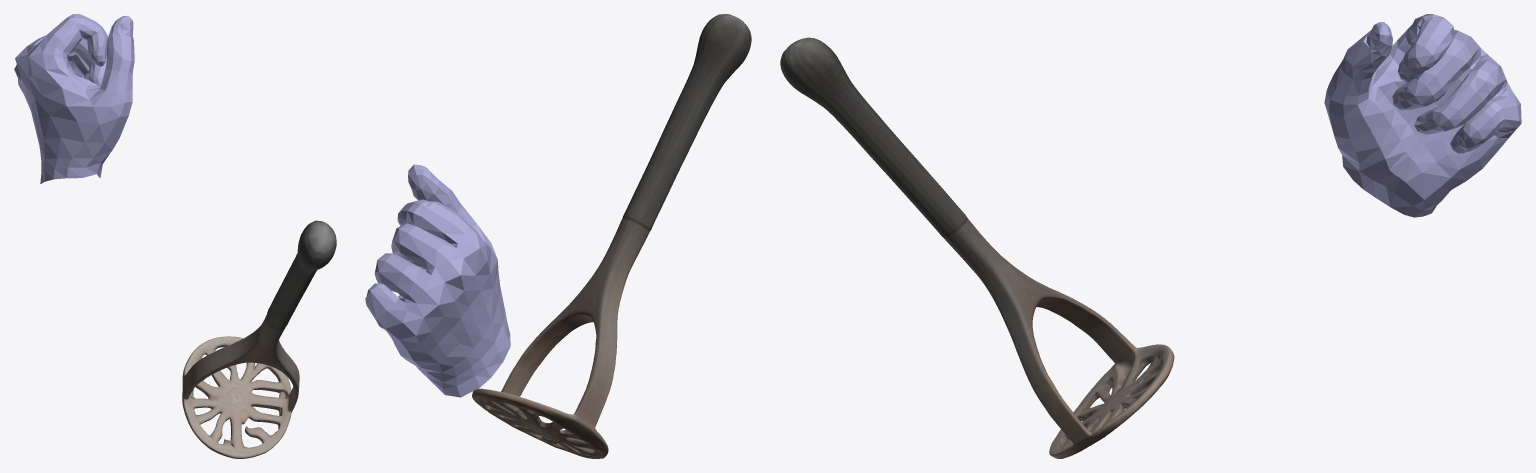
Rendered from frame_0026_source_000026_hand_object.glb.
The picture shows the model from 3 angles, left to right: view 1: azimuth 30°, elevation 25°; view 2: azimuth 150°, elevation 25°; view 3: azimuth 270°, elevation 25°; orthographic projection. The views are drawn at different scales.
Parts seen in each view (by area): view 1: world; view 2: world; view 3: world.
Boxes of the visible parts, x1,y1,x2,y2 form: world: (14,14,336,458); world: (365,14,751,458); world: (780,14,1521,458).
Bounding box in the file's own units: 0.0961 × 0.2406 × 0.3765.
